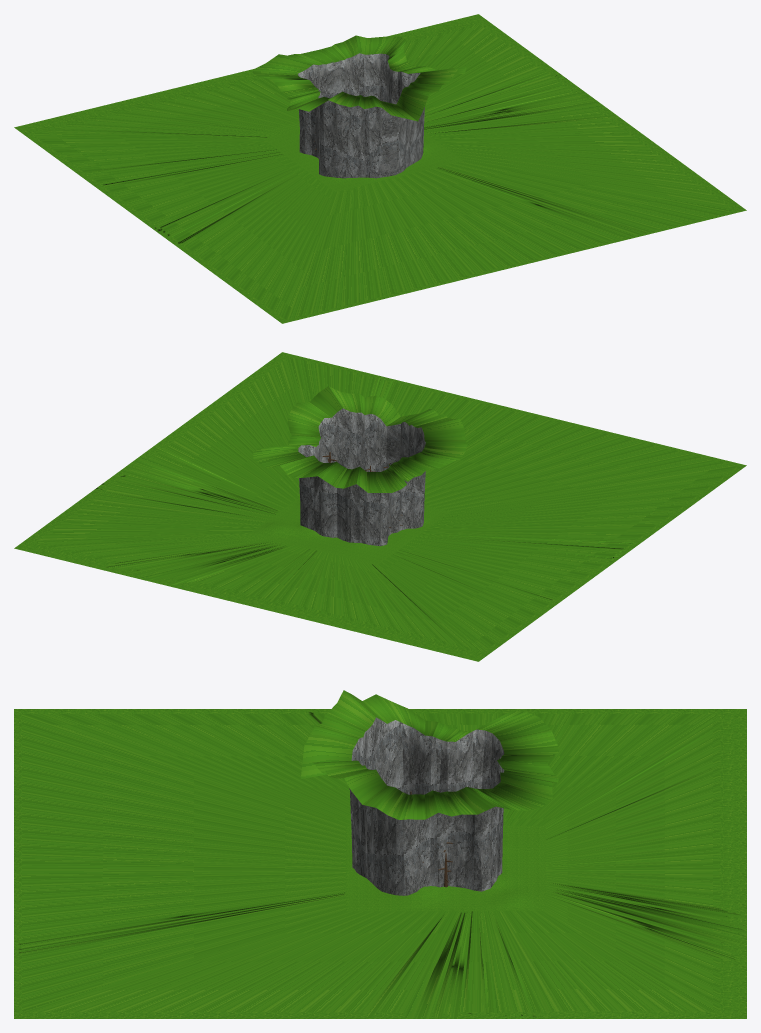
The model's file is Empty_Rolling_Plain.glb.
The picture shows the model from 3 angles, top to bottom: view 1: azimuth 30°, elevation 25°; view 2: azimuth 150°, elevation 25°; view 3: azimuth 270°, elevation 25°; orthographic projection. The views are drawn at different scales.
Visible parts, largest first — view 1: RollingPlain, Forest_fixed_pitwall.001_0; view 2: RollingPlain, Forest_fixed_pitwall.001_0; view 3: RollingPlain, Forest_fixed_pitwall.001_0.
Boxes of the visible parts, bbox=[...] form: RollingPlain: bbox=[14, 14, 746, 323]; Forest_fixed_pitwall.001_0: bbox=[252, 35, 466, 178]; RollingPlain: bbox=[14, 352, 746, 661]; Forest_fixed_pitwall.001_0: bbox=[253, 386, 467, 546]; RollingPlain: bbox=[14, 709, 746, 1018]; Forest_fixed_pitwall.001_0: bbox=[300, 690, 558, 895].
Size of the model in its own units: 481 by 109 by 481.
7 materials, 7 textured.
